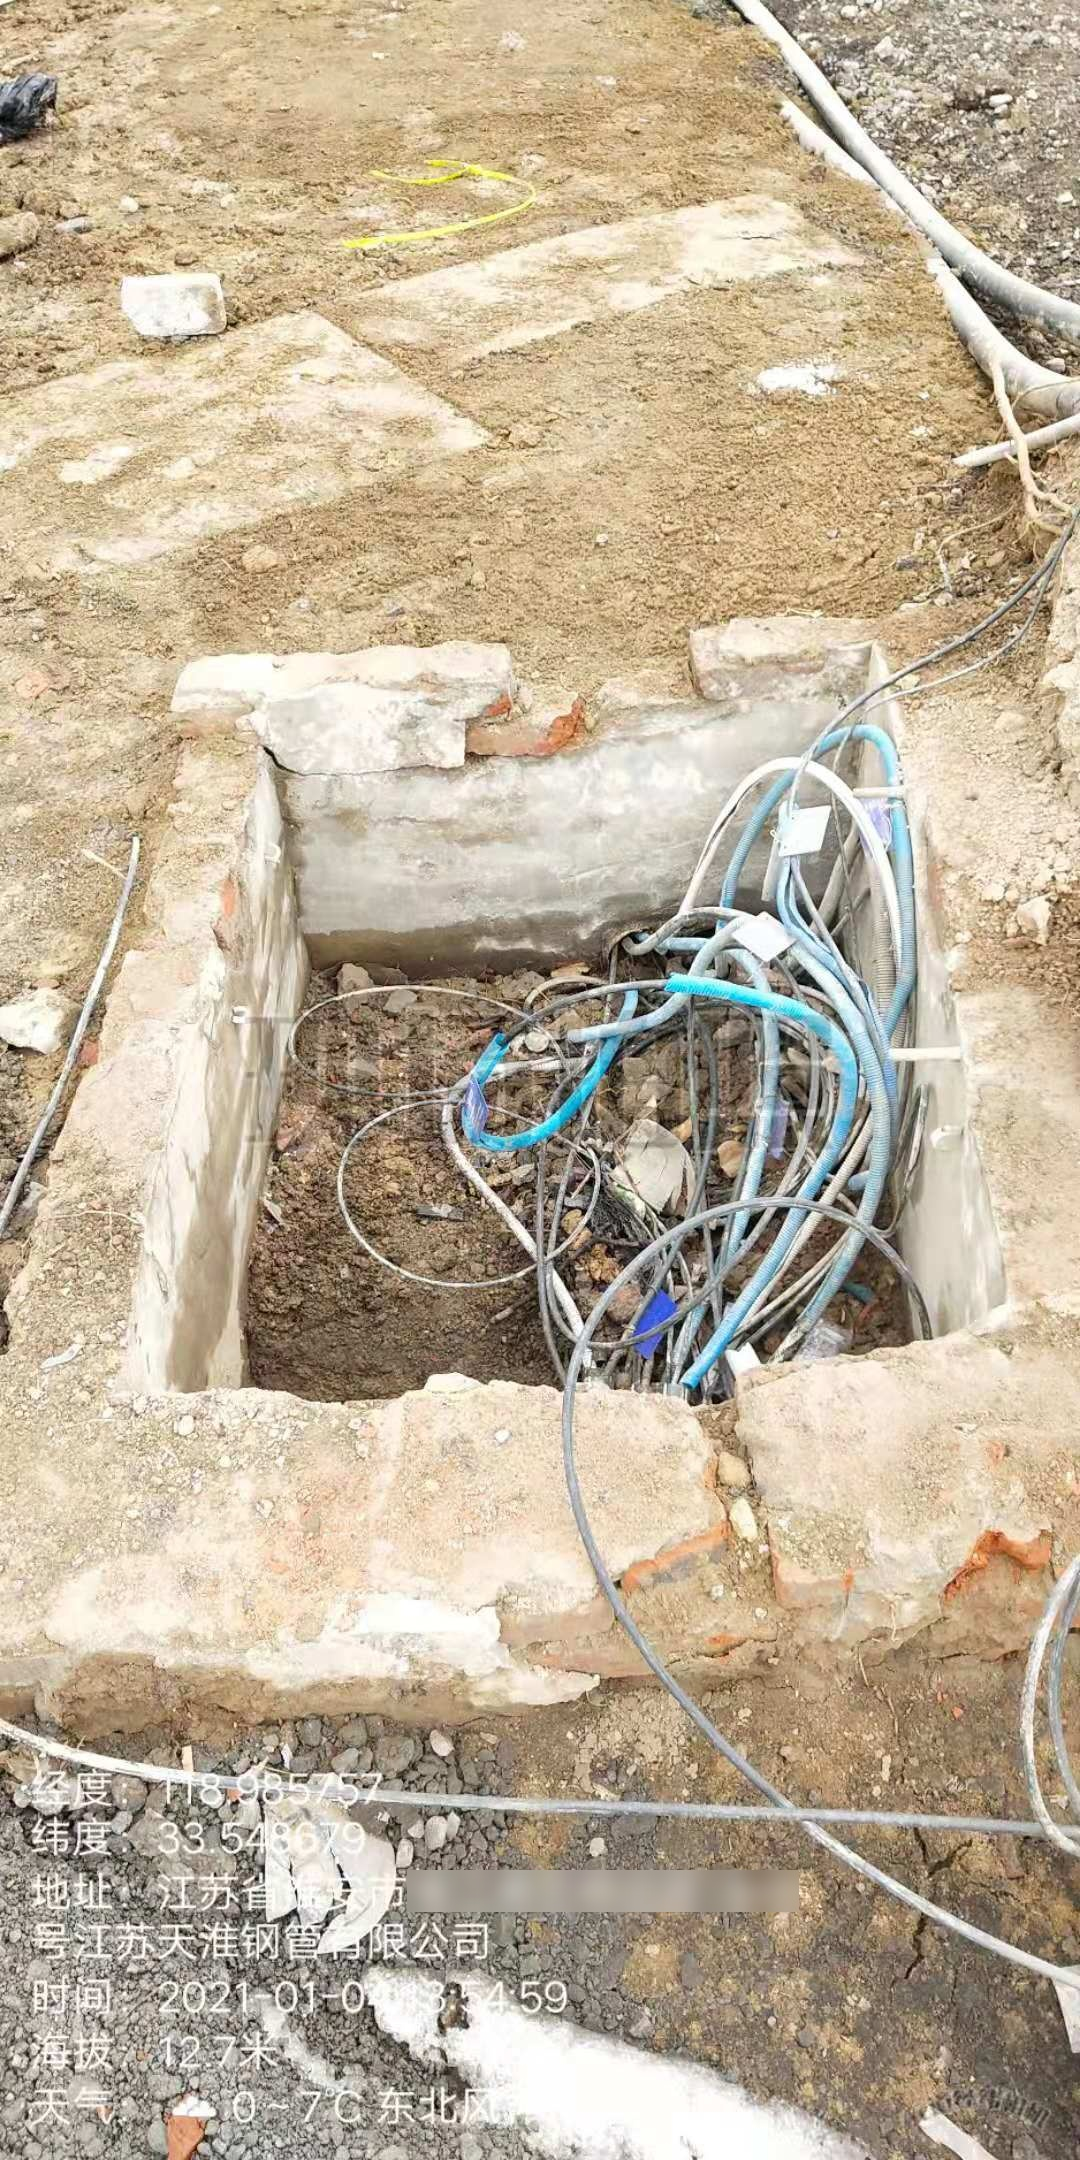lose: (120, 676, 1041, 1413)
